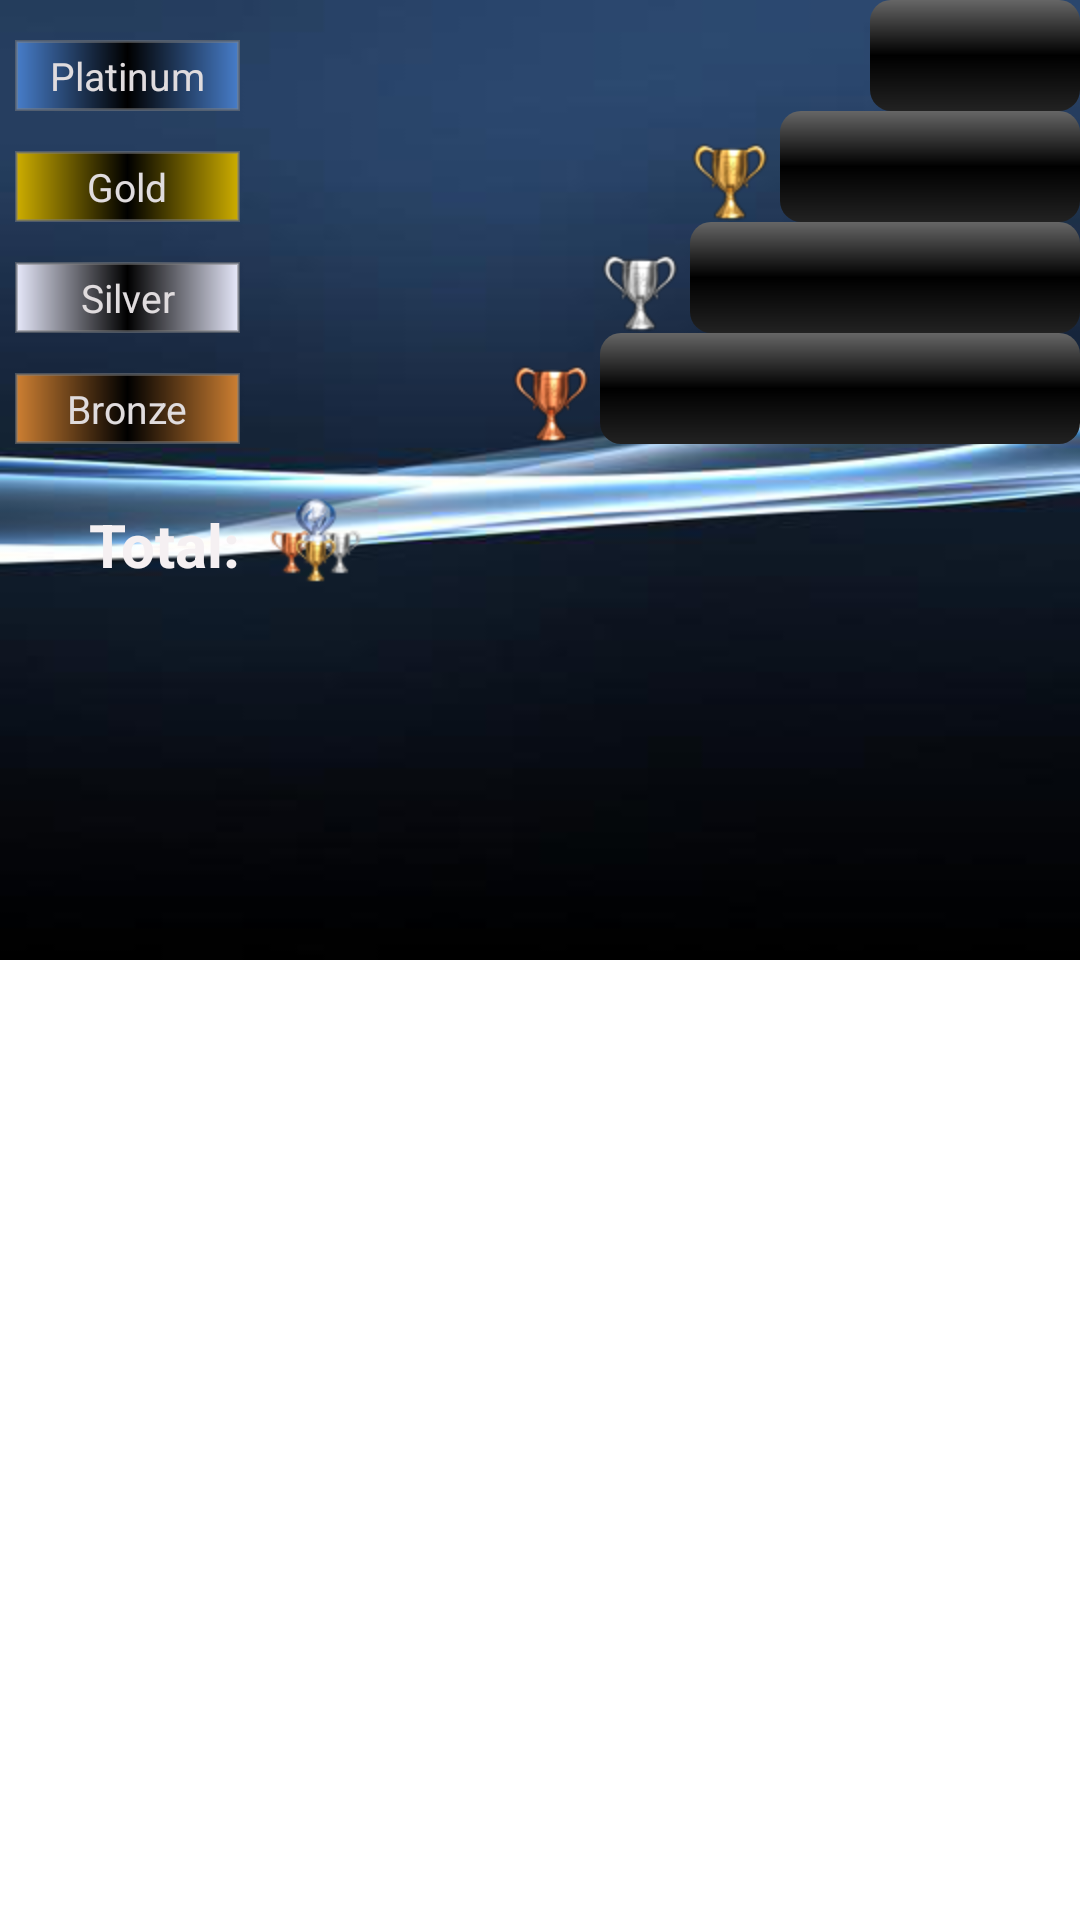

Icons on this 1080w x 1920h Android screen, each with the point to tap as [x,y]:
Bronze trophy: [551,404]
Gold trophy: [730,182]
Silver trophy: [640,293]
